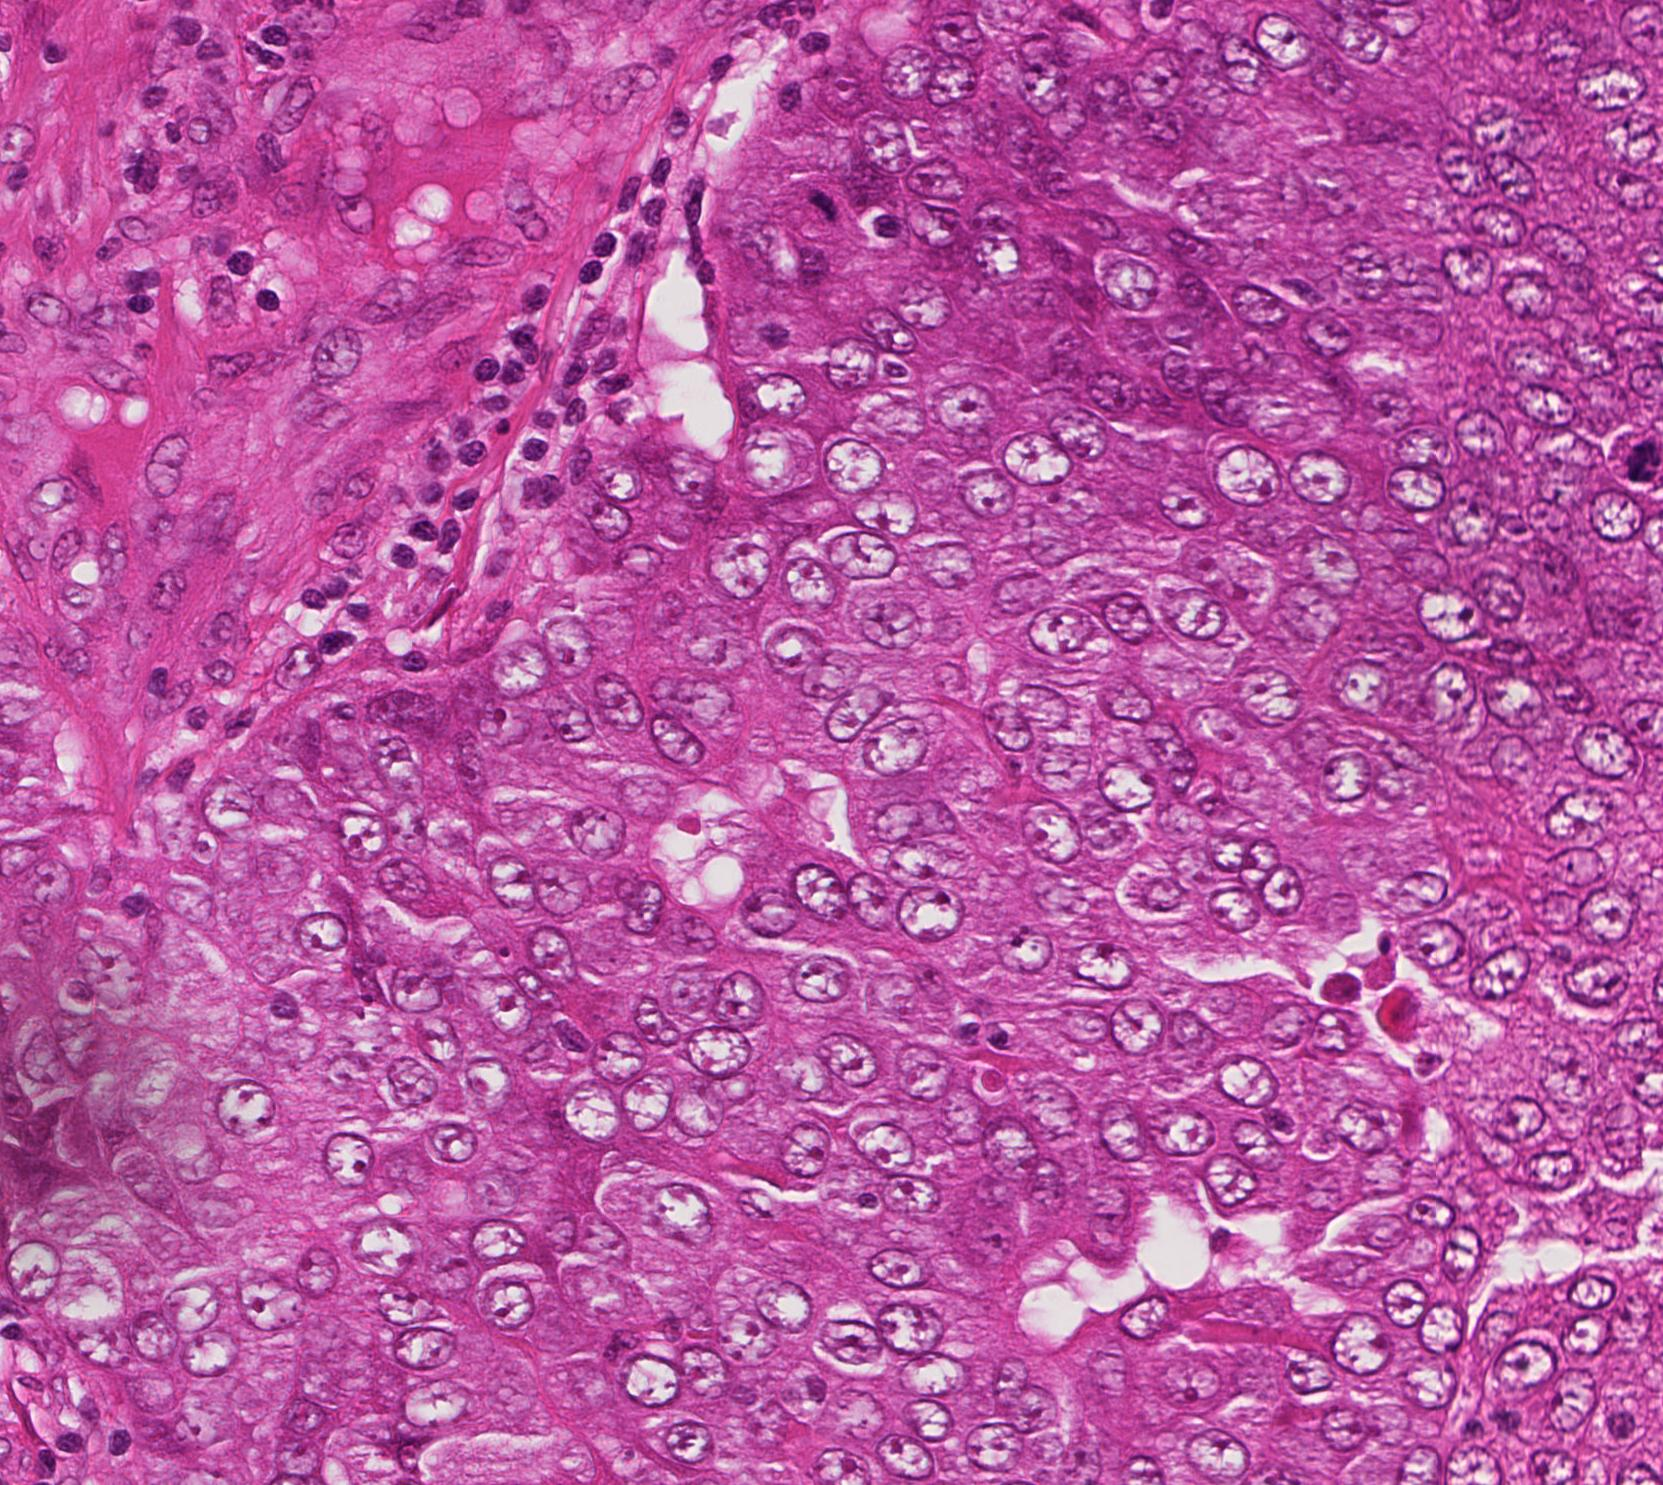mitosis: (806, 176, 864, 237), (1614, 431, 1663, 492)
